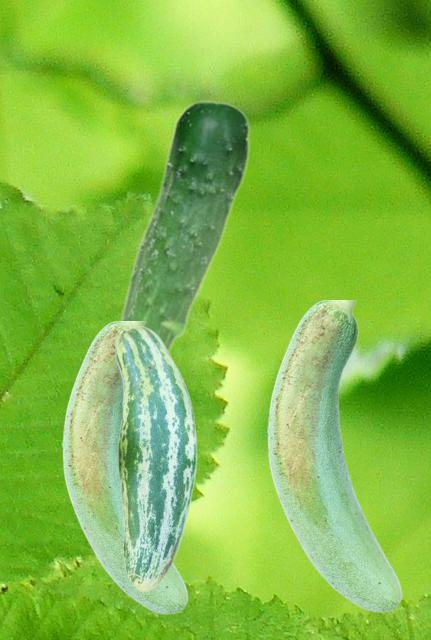cucumber: (267, 300, 401, 611), (62, 321, 187, 613), (119, 100, 250, 351), (114, 325, 196, 591)
